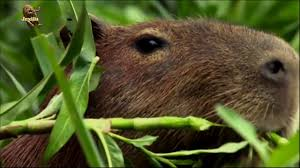capivara: (2, 11, 300, 168)
